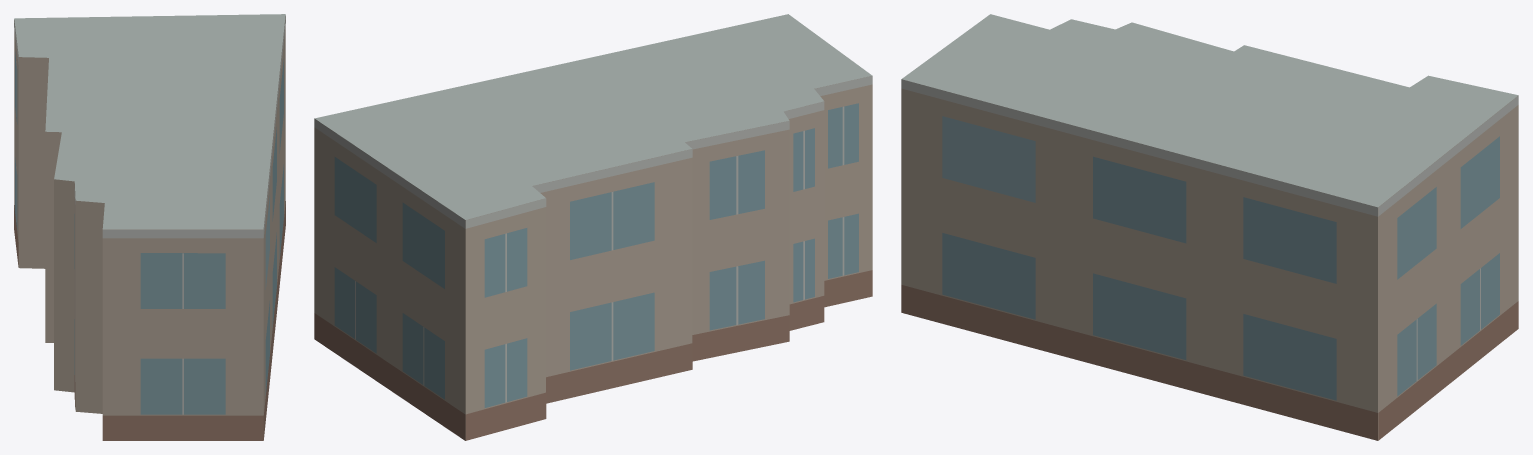
File: survey-upis-32756848.glb
The picture shows the model from 3 angles, left to right: view 1: azimuth 30°, elevation 25°; view 2: azimuth 150°, elevation 25°; view 3: azimuth 270°, elevation 25°; orthographic projection. The views are drawn at different scales.
Visible parts, largest first — view 1: survey-upis-32756848.tmp; view 2: survey-upis-32756848.tmp; view 3: survey-upis-32756848.tmp.
Part boxes in pixels (box(x1,y1,x2,y2)): survey-upis-32756848.tmp: box(14, 14, 285, 440); survey-upis-32756848.tmp: box(314, 14, 872, 440); survey-upis-32756848.tmp: box(901, 14, 1518, 440).
Bounding box in the file's own units: 10.85 × 6.1 × 14.63.
